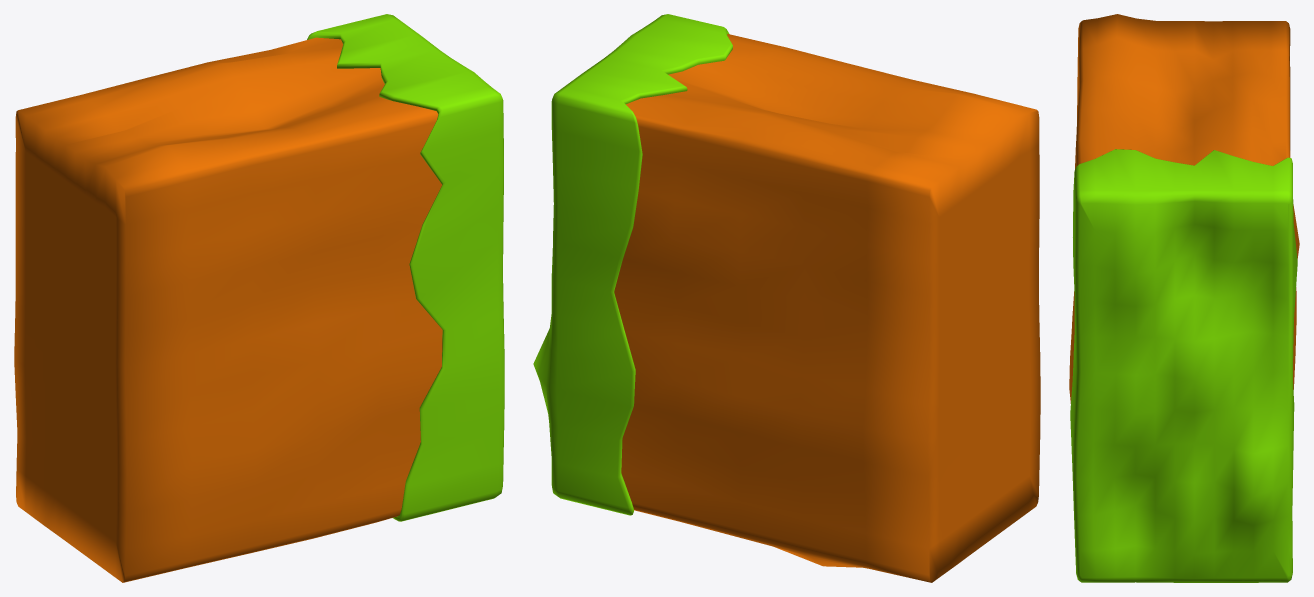
File: Hill2.gltf
The picture shows the model from 3 angles, left to right: view 1: azimuth 30°, elevation 25°; view 2: azimuth 150°, elevation 25°; view 3: azimuth 270°, elevation 25°; orthographic projection. The views are drawn at different scales.
Parts seen in each view (by area): view 1: Cube, Cube.001; view 2: Cube, Cube.001; view 3: Cube.001, Cube.
Part boxes in pixels (x1=…): Cube: x1=14, y1=37, x2=442, y2=582; Cube.001: x1=307, y1=14, x2=504, y2=521; Cube: x1=614, y1=34, x2=1040, y2=582; Cube.001: x1=533, y1=14, x2=732, y2=515; Cube.001: x1=1070, y1=149, x2=1297, y2=582; Cube: x1=1069, y1=14, x2=1299, y2=403.
Bounding box in the file's own units: 21.94 × 22.04 × 10.92.
